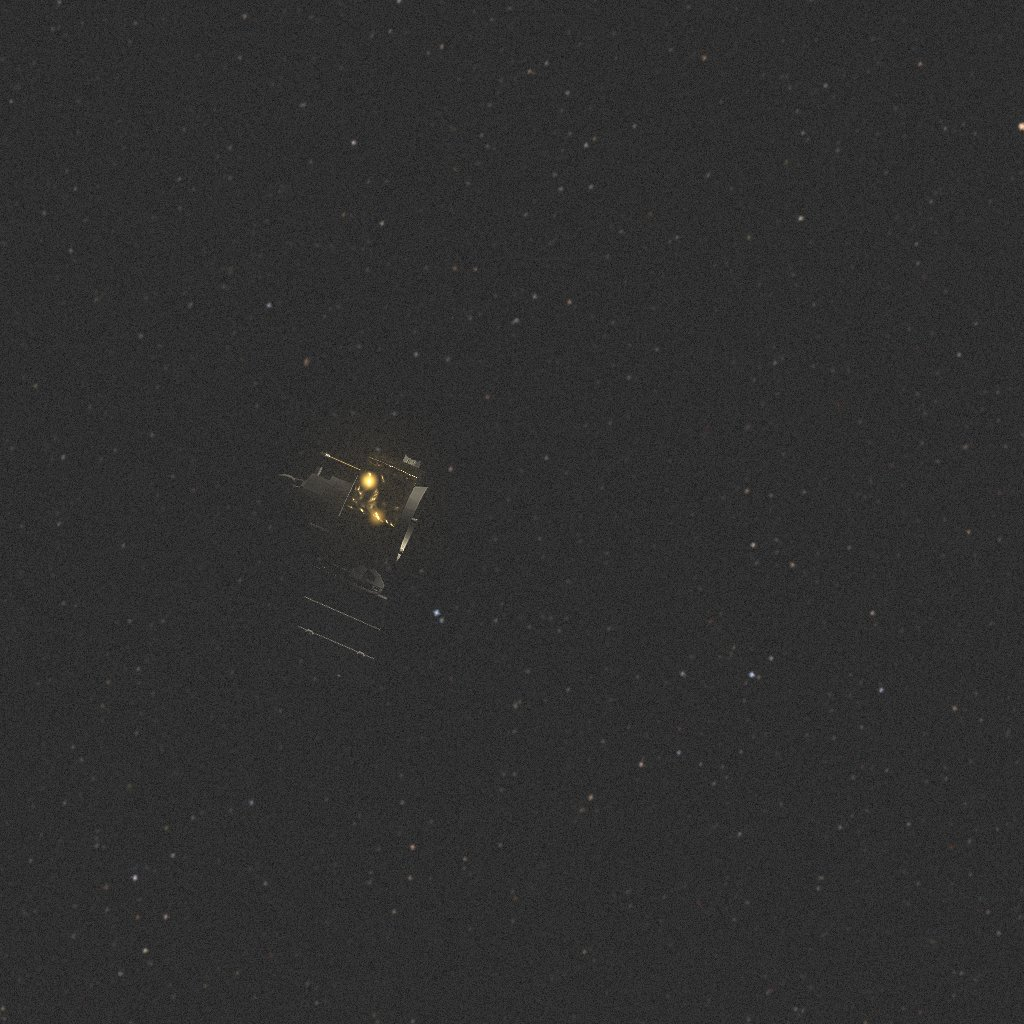earth_observation_sat_1: (274, 450, 429, 686)
